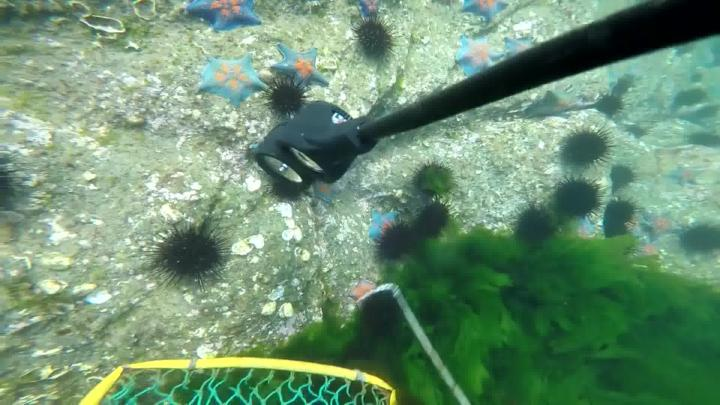echinus: (149, 226, 227, 293), (364, 296, 401, 341), (560, 178, 599, 218), (564, 132, 608, 167), (413, 199, 447, 244), (604, 204, 638, 247), (269, 79, 306, 116), (515, 206, 549, 244), (356, 22, 395, 54), (683, 223, 720, 256), (411, 166, 451, 193), (380, 228, 411, 258), (674, 86, 708, 112), (688, 130, 720, 151), (593, 95, 622, 117), (628, 123, 651, 144), (614, 167, 631, 189)
scallop: (233, 233, 270, 258), (76, 18, 130, 34), (131, 1, 160, 23), (277, 205, 301, 229), (65, 1, 96, 16), (280, 226, 303, 244), (244, 177, 263, 191), (296, 248, 312, 262), (282, 305, 294, 320)
starfish: (203, 55, 267, 106), (274, 43, 322, 90), (187, 1, 263, 30), (457, 41, 505, 79), (502, 35, 537, 66), (371, 211, 398, 249), (646, 211, 677, 242), (348, 277, 374, 309), (463, 1, 507, 19), (668, 165, 704, 185), (567, 217, 596, 240), (359, 1, 386, 16)
